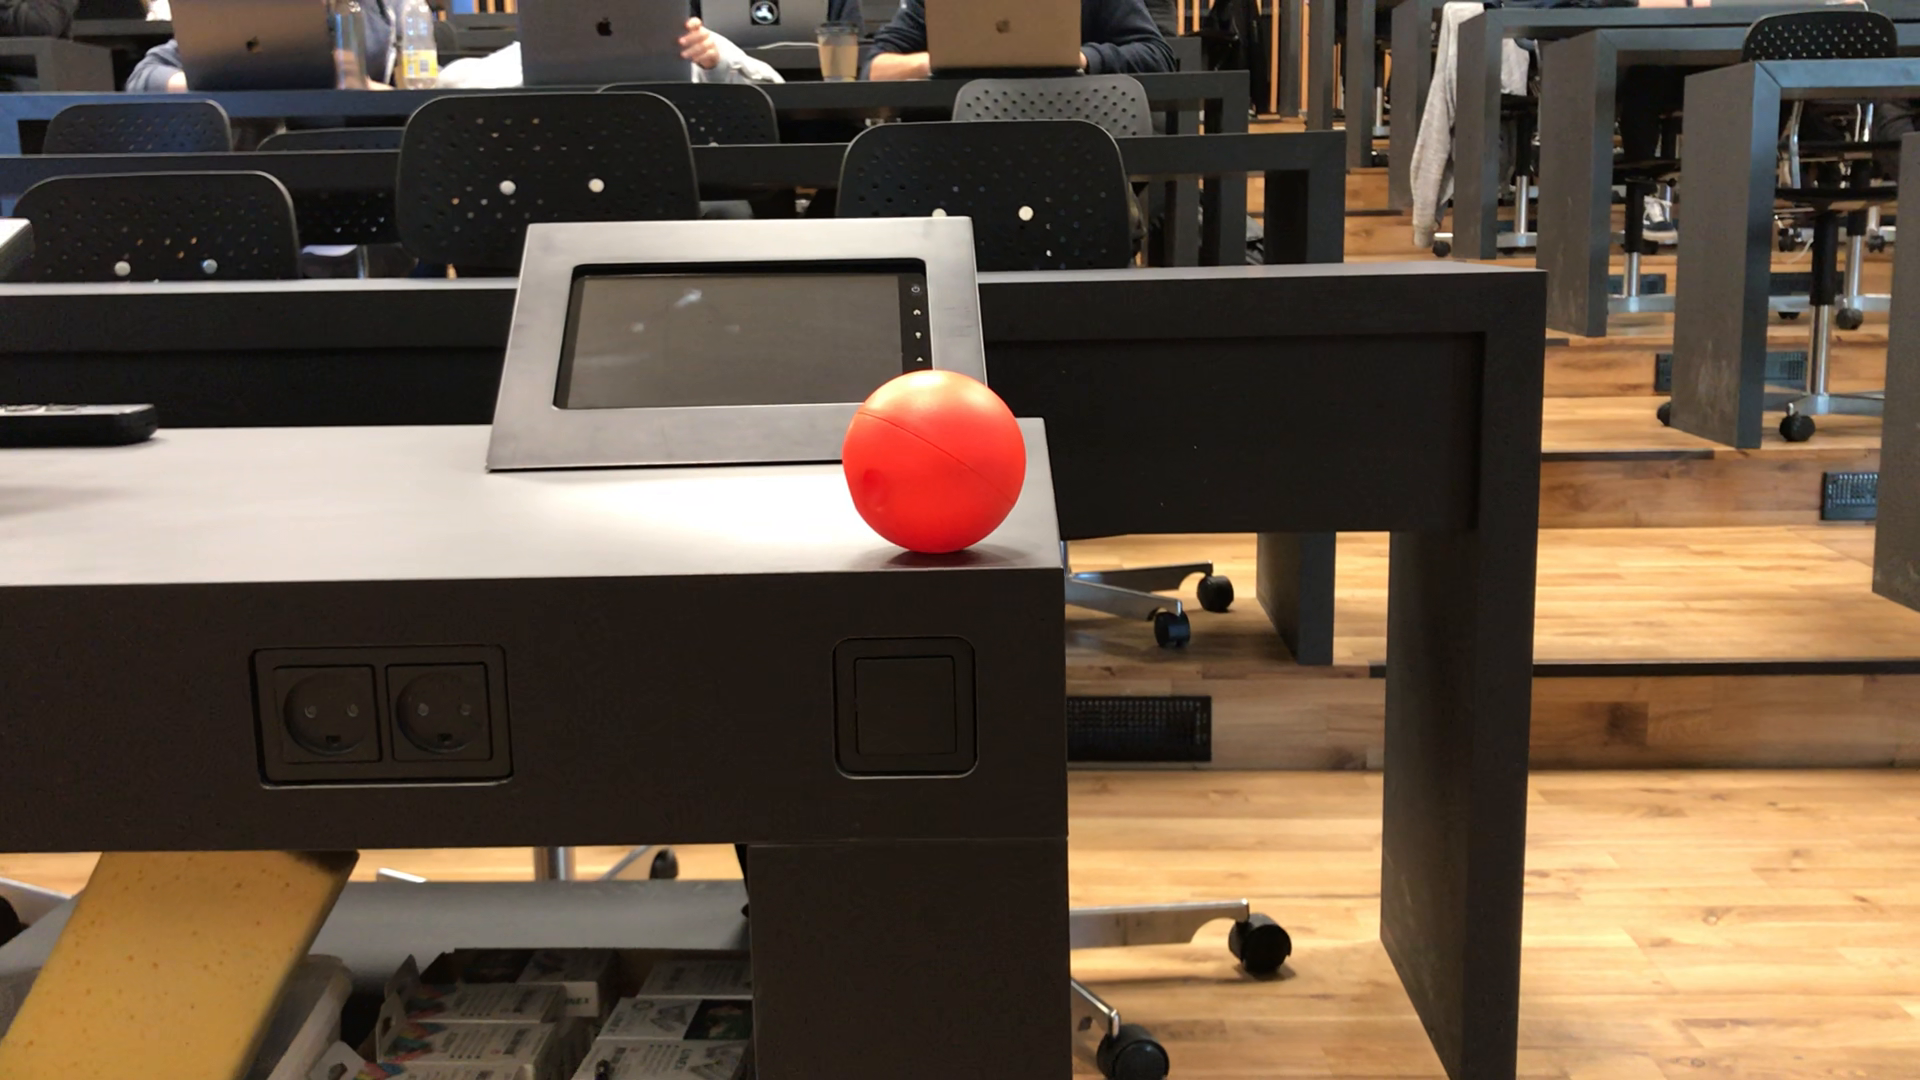Ball: (847, 369, 1019, 560)
